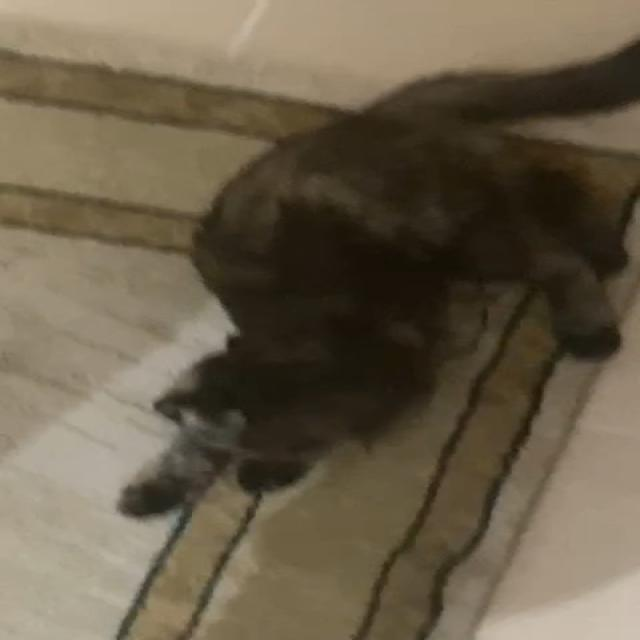authorized: (113, 35, 638, 520)
